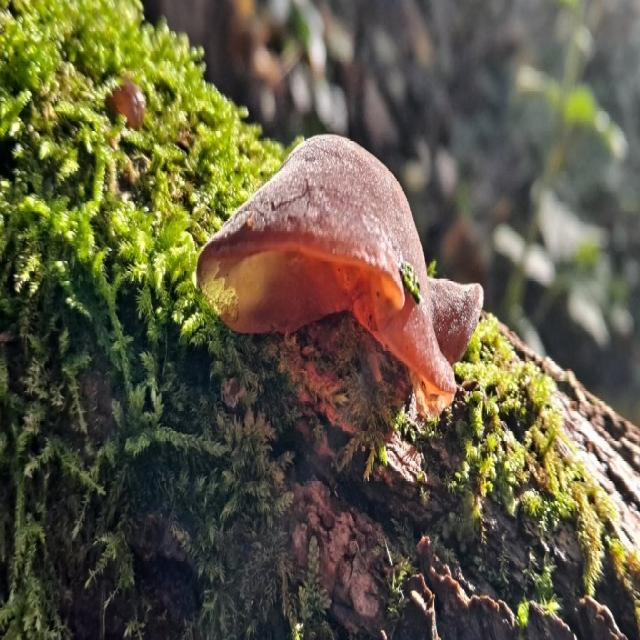Matang: (196, 106, 485, 420)
